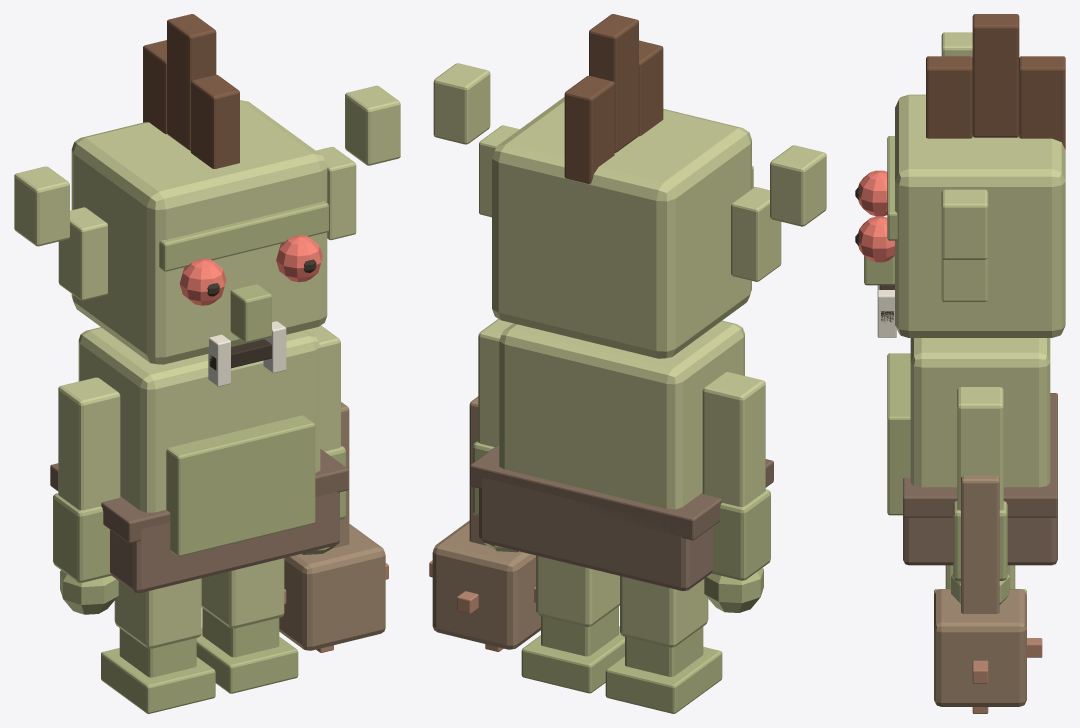
Rendered from goblin_v3.glb.
The picture shows the model from 3 angles, left to right: view 1: azimuth 30°, elevation 25°; view 2: azimuth 150°, elevation 25°; view 3: azimuth 270°, elevation 25°; orthographic projection. The views are drawn at different scales.
Parts seen in each view (by area): view 1: Head_Skull, Body_Torso, Body_Belly, Club_Head, Loincloth, ArmL_Upper, Brow_Ridge, LegL_Thigh, Mohawk_M, LegR_Thigh, LegL_Foot, Mohawk_F (+19 smaller); view 2: Head_Skull, Body_Torso, Loincloth, Club_Head, ArmL_Upper, Belt_Strap, LegL_Thigh, Mohawk_B, Mohawk_M, LegR_Thigh, LegL_Foot, ArmL_Forearm (+11 smaller); view 3: Head_Skull, Body_Torso, Club_Head, Mohawk_M, Club_Shaft, Loincloth, ArmR_Upper, Belt_Strap, Mohawk_B, Mohawk_F, Body_Belly, EarTip_R (+11 smaller).
Part boxes in pixels (left/top/right/bottom): Head_Skull: left=71, top=100, right=327, bottom=364; Body_Torso: left=78, top=327, right=320, bottom=512; Body_Belly: left=166, top=415, right=315, bottom=556; Club_Head: left=279, top=524, right=385, bottom=650; Loincloth: left=110, top=492, right=339, bottom=592; ArmL_Upper: left=58, top=377, right=120, bottom=510; Brow_Ridge: left=159, top=201, right=328, bottom=271; LegL_Thigh: left=114, top=578, right=201, bottom=648; Mohawk_M: left=167, top=14, right=216, bottom=150; LegR_Thigh: left=201, top=558, right=284, bottom=628; LegL_Foot: left=101, top=648, right=215, bottom=713; Mohawk_F: left=190, top=74, right=239, bottom=168; Head_Skull: left=492, top=97, right=751, bottom=358; Body_Torso: left=499, top=320, right=744, bottom=509; Loincloth: left=479, top=477, right=712, bottom=590; Club_Head: left=432, top=520, right=540, bottom=649; ArmL_Upper: left=702, top=372, right=765, bottom=506; Belt_Strap: left=470, top=444, right=773, bottom=540; LegL_Thigh: left=620, top=576, right=708, bottom=647; Mohawk_B: left=564, top=75, right=614, bottom=184; Mohawk_M: left=589, top=14, right=638, bottom=152; LegR_Thigh: left=536, top=555, right=619, bottom=626; LegL_Foot: left=605, top=647, right=722, bottom=713; ArmL_Forearm: left=712, top=489, right=770, bottom=580; Head_Skull: left=895, top=94, right=1065, bottom=337; Body_Torso: left=910, top=338, right=1050, bottom=487; Club_Head: left=934, top=589, right=1026, bottom=706; Mohawk_M: left=972, top=14, right=1019, bottom=137; Club_Shaft: left=961, top=475, right=999, bottom=613; Loincloth: left=903, top=516, right=1057, bottom=565; ArmR_Upper: left=957, top=387, right=1003, bottom=510; Belt_Strap: left=903, top=393, right=1057, bottom=517; Mohawk_B: left=1019, top=56, right=1065, bottom=149; Mohawk_F: left=926, top=56, right=972, bottom=138; Body_Belly: left=887, top=353, right=910, bottom=515; EarTip_R: left=941, top=189, right=988, bottom=259.
Bounding box in the file's own units: 0.535 × 0.9 × 0.2714.
